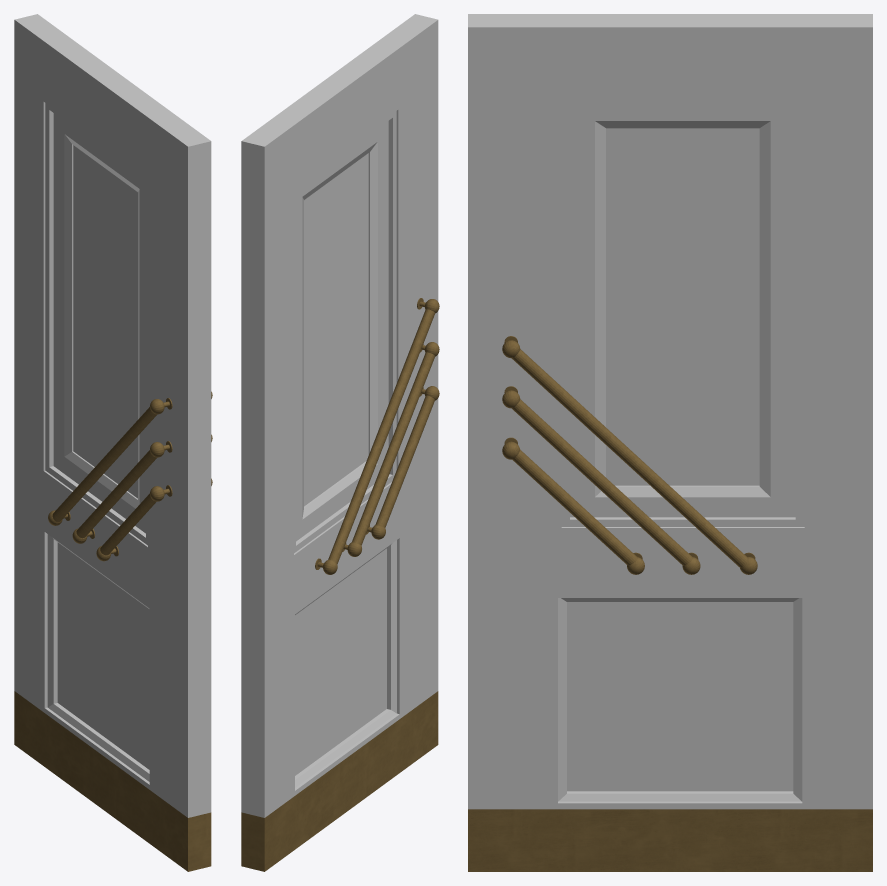
File: SM_WD30_DOOR_1.fbx
3 renders of one model, left to right at view 1: azimuth 30°, elevation 25°; view 2: azimuth 150°, elevation 25°; view 3: azimuth 270°, elevation 25°, orthographic. The views are drawn at different scales.
Parts seen in each view (by area): view 1: SM_WD30_DOOR_1; view 2: SM_WD30_DOOR_1; view 3: SM_WD30_DOOR_1.
Boxes of the visible parts, bbox=[...] form: SM_WD30_DOOR_1: bbox=[14, 14, 212, 871]; SM_WD30_DOOR_1: bbox=[241, 14, 439, 871]; SM_WD30_DOOR_1: bbox=[468, 14, 872, 871].
Size of the model in its own units: 22.6 by 113 by 259.
